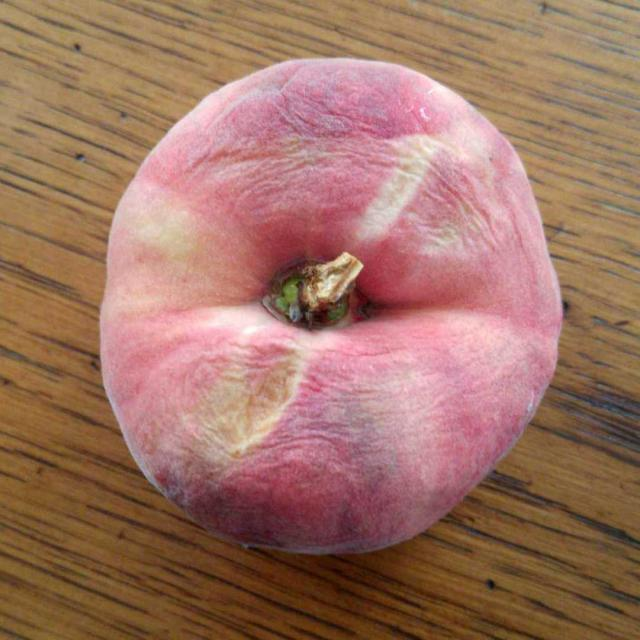peach: (102, 71, 546, 525)
